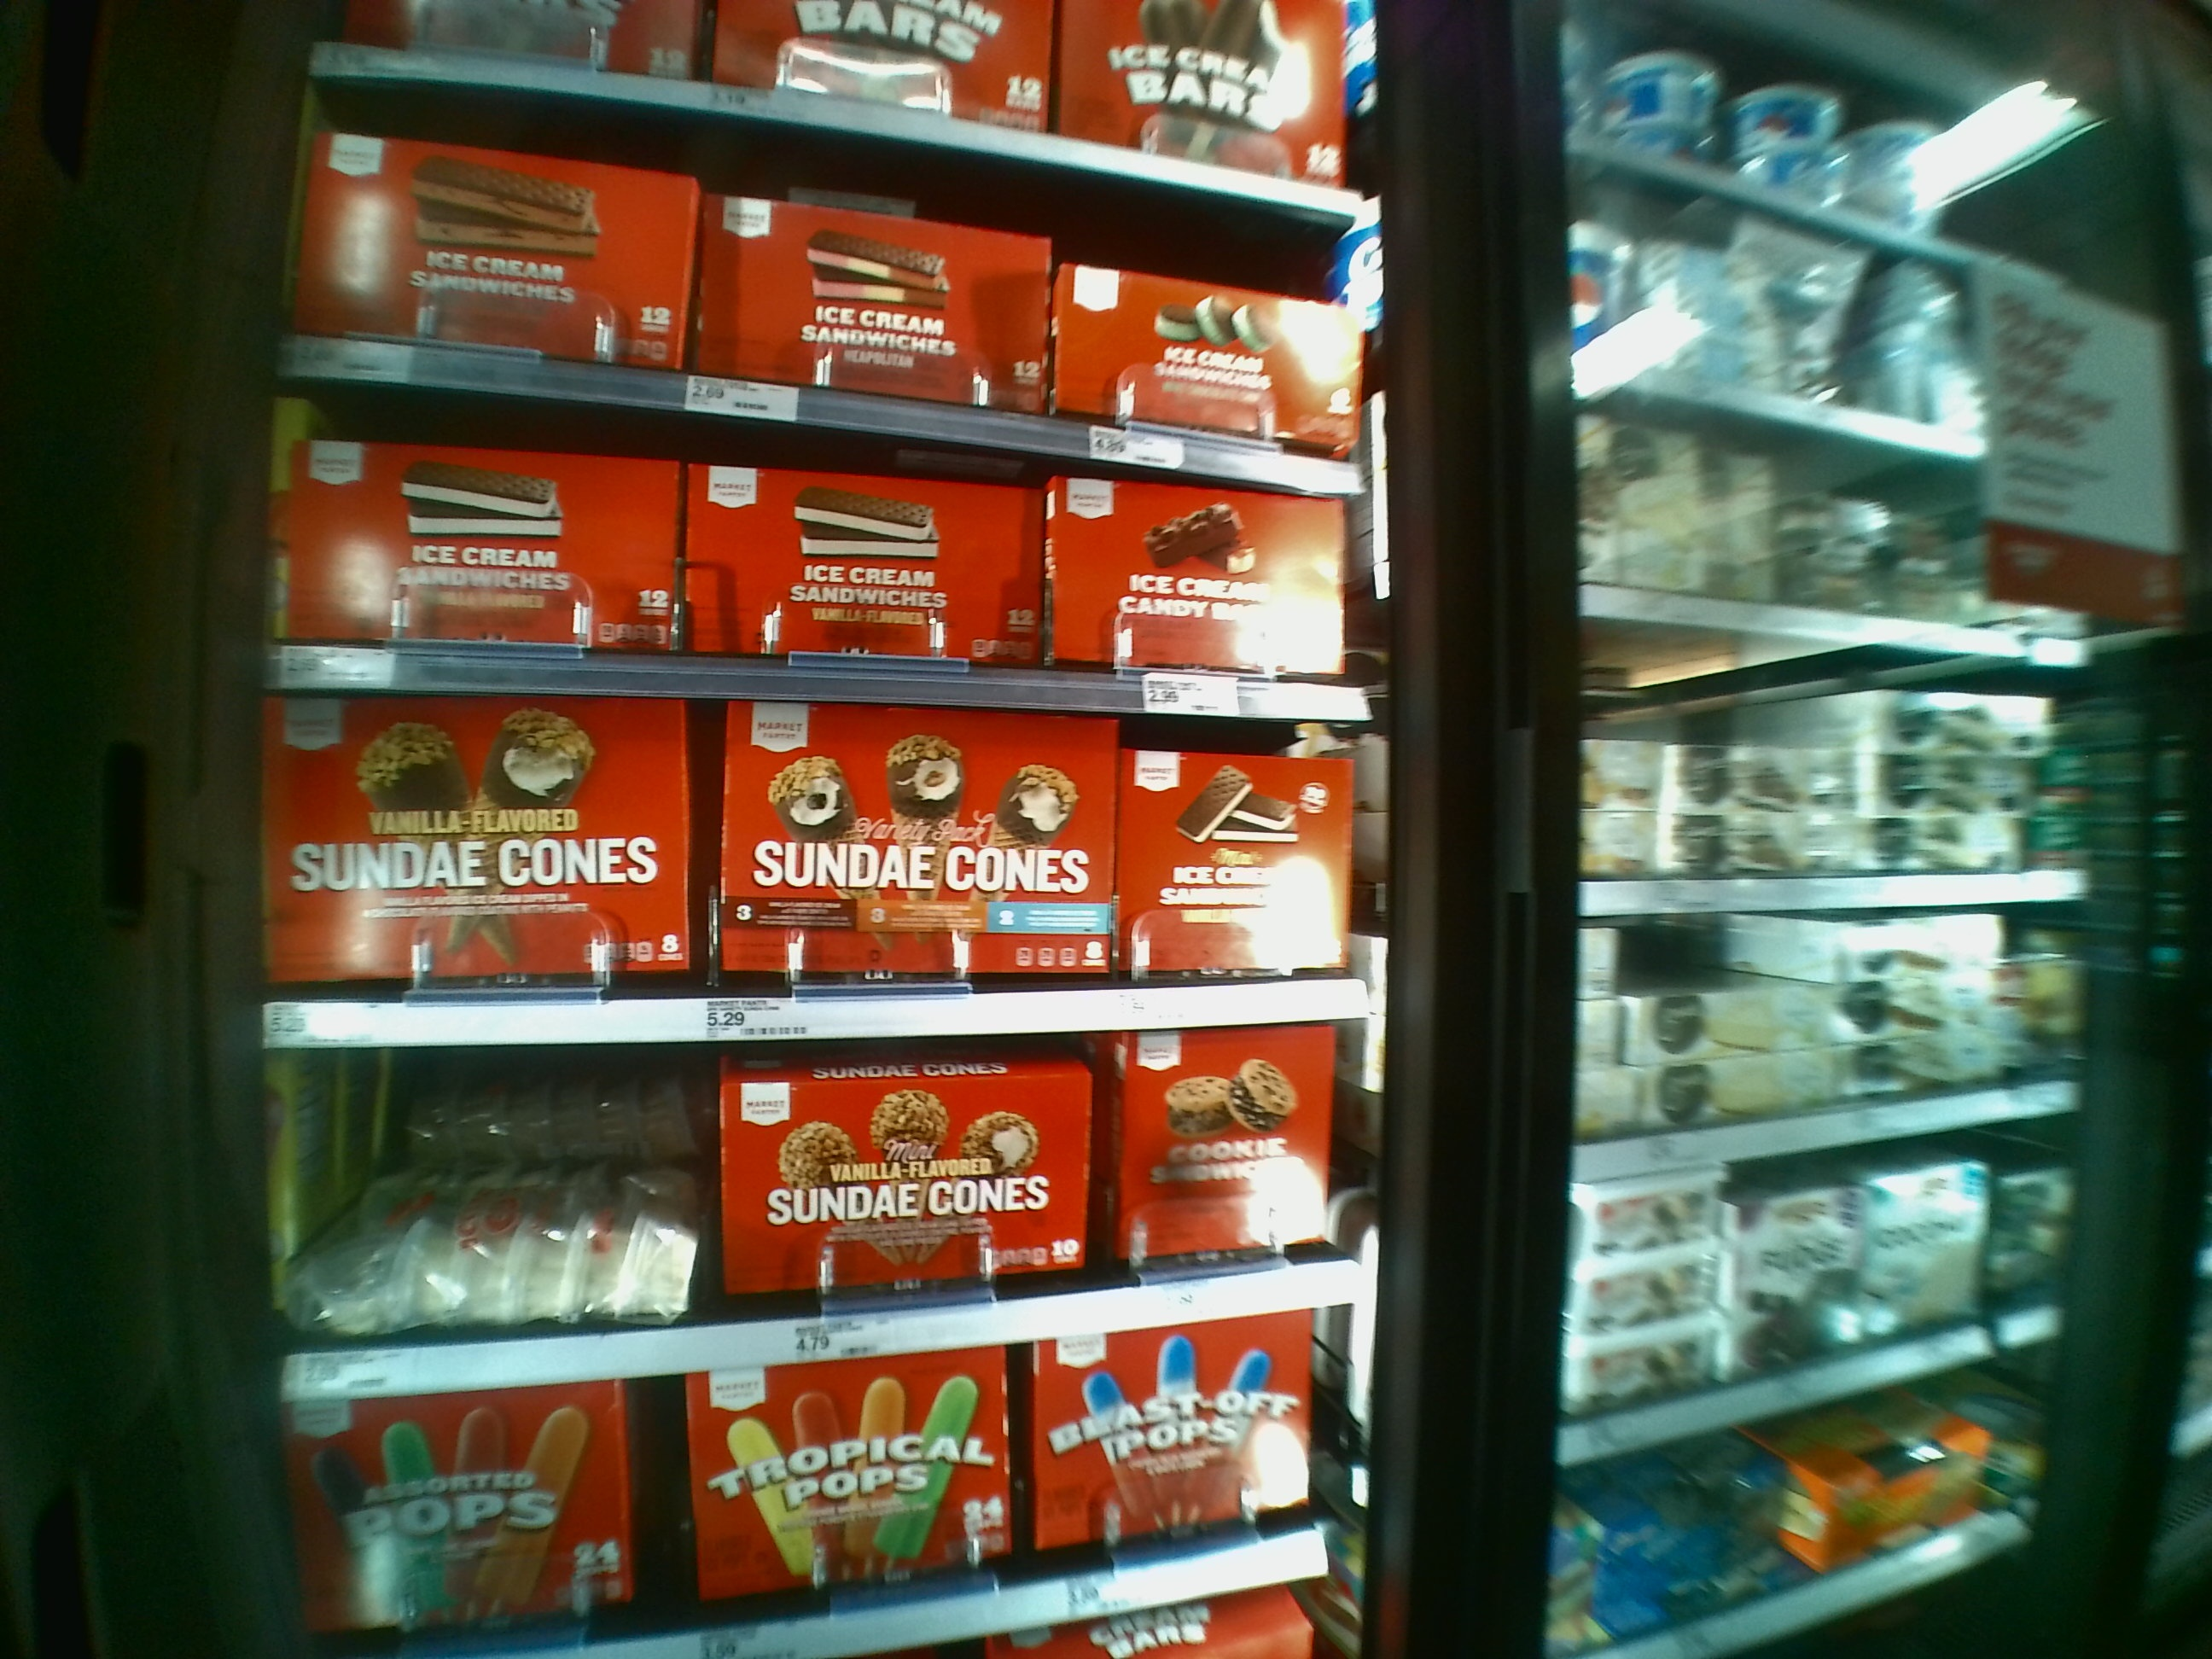shelf: (242, 695, 1362, 1035), (260, 399, 1379, 734), (287, 1319, 1367, 1659), (277, 141, 1367, 427), (256, 1053, 1378, 1326)
